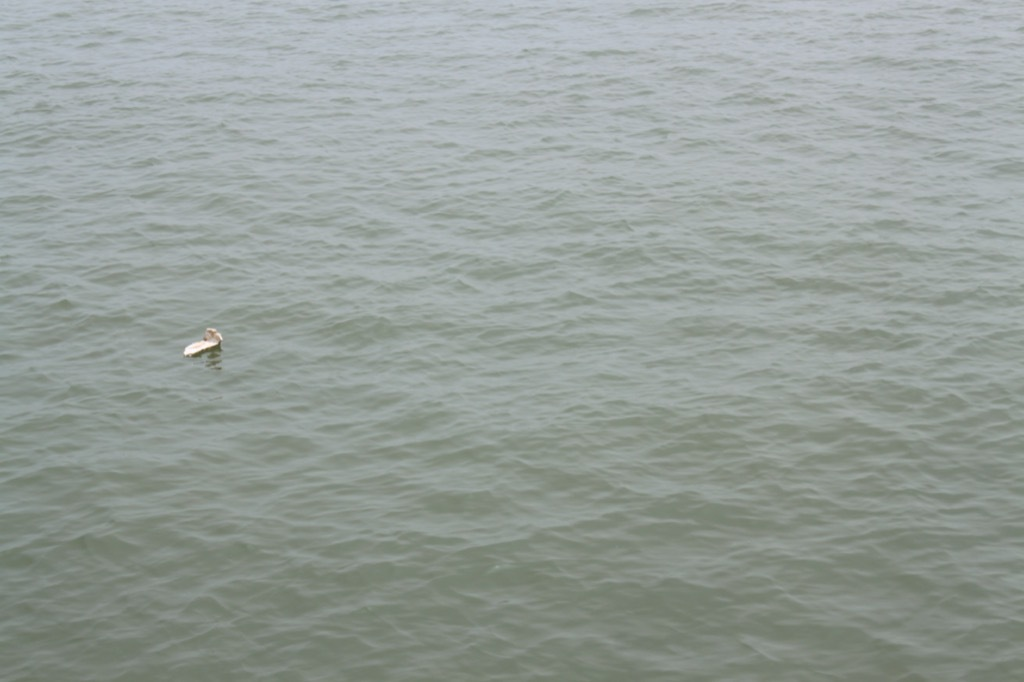plastic: (171, 320, 235, 370)
